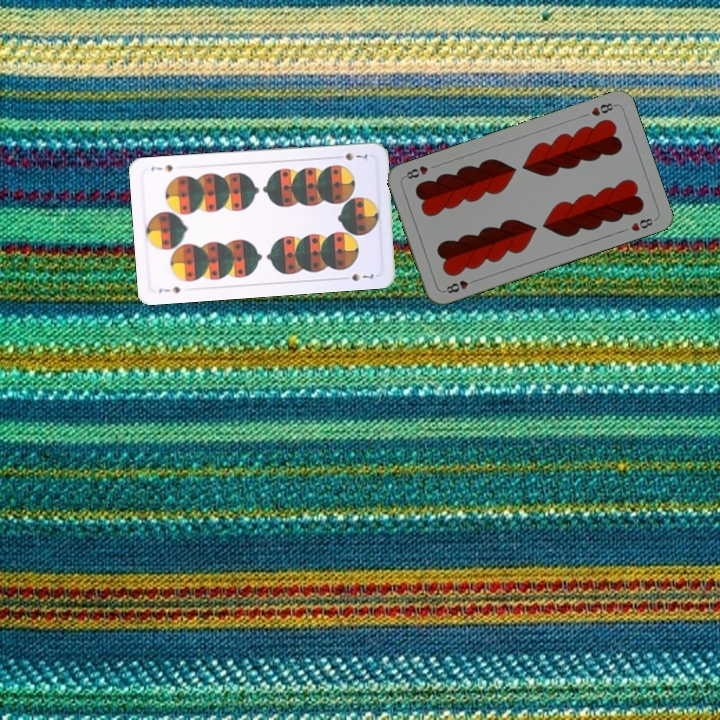H8: (440, 275, 479, 296), (587, 99, 618, 119)
S7: (331, 148, 370, 163), (155, 282, 182, 296)
